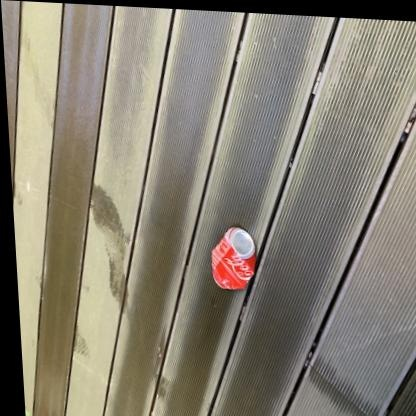trash: (212, 227, 255, 289)
